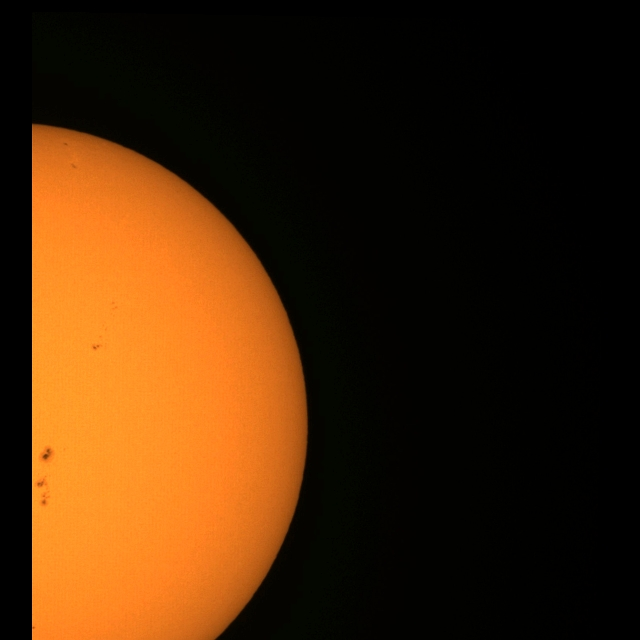sunspot: (35, 473, 52, 508), (38, 446, 54, 462), (91, 342, 103, 351), (110, 300, 118, 310), (70, 162, 78, 170), (63, 141, 69, 147), (31, 624, 36, 630)
